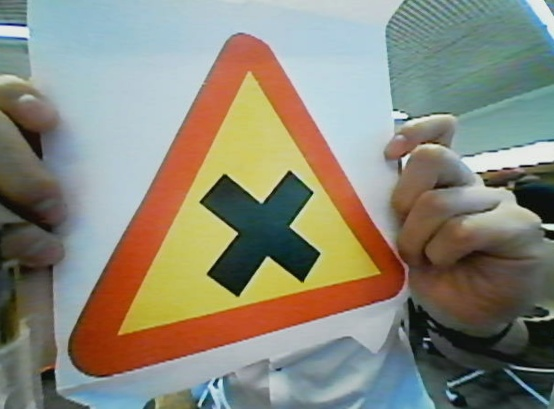junction: (61, 29, 409, 387)
